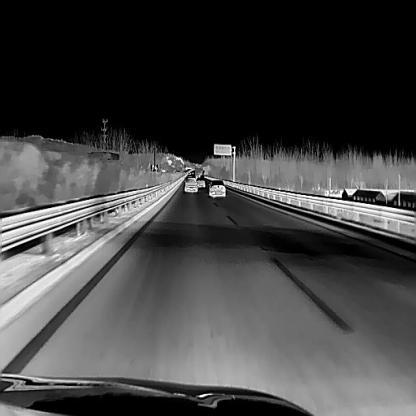car: (208, 178, 225, 197), (184, 176, 197, 191), (195, 176, 204, 187)
